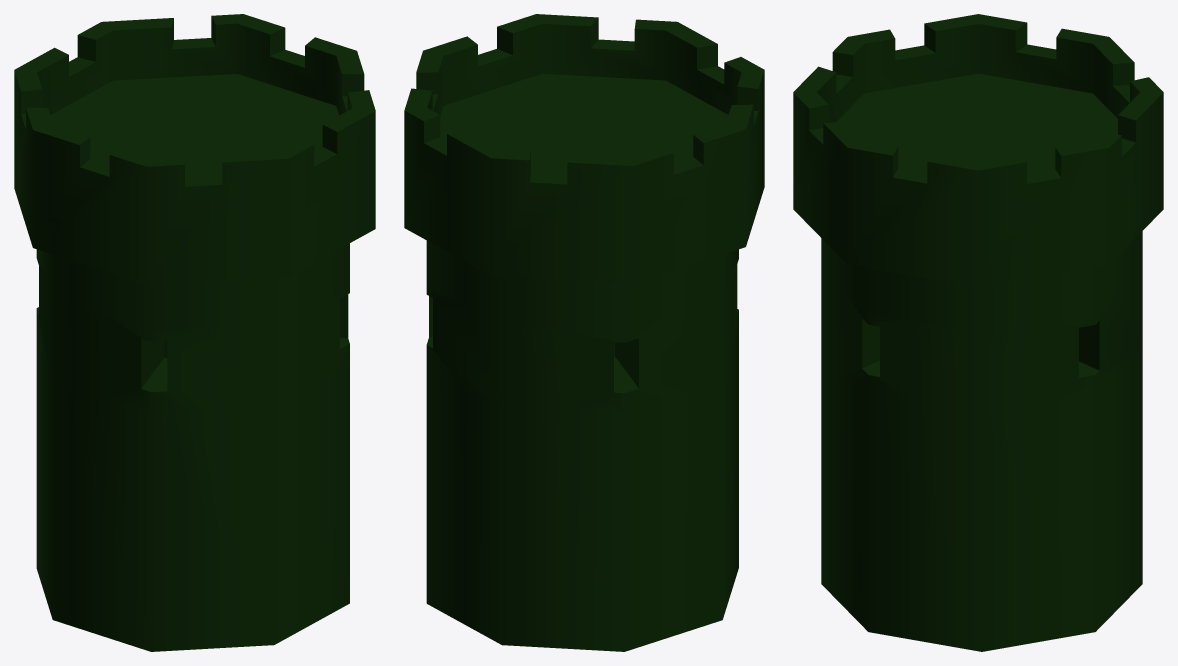
File: round-tower-base-1.fbx
3 renders of one model, left to right at view 1: azimuth 30°, elevation 25°; view 2: azimuth 150°, elevation 25°; view 3: azimuth 270°, elevation 25°, orthographic.
Parts seen in each view (by area): view 1: round-tower-base-1; view 2: round-tower-base-1; view 3: round-tower-base-1.
Part boxes in pixels (x1,y1,x2,y2): round-tower-base-1: (14, 14, 375, 651); round-tower-base-1: (404, 14, 764, 651); round-tower-base-1: (793, 14, 1163, 651).
Size of the model in its own units: 5.97 by 8.74 by 5.97.
